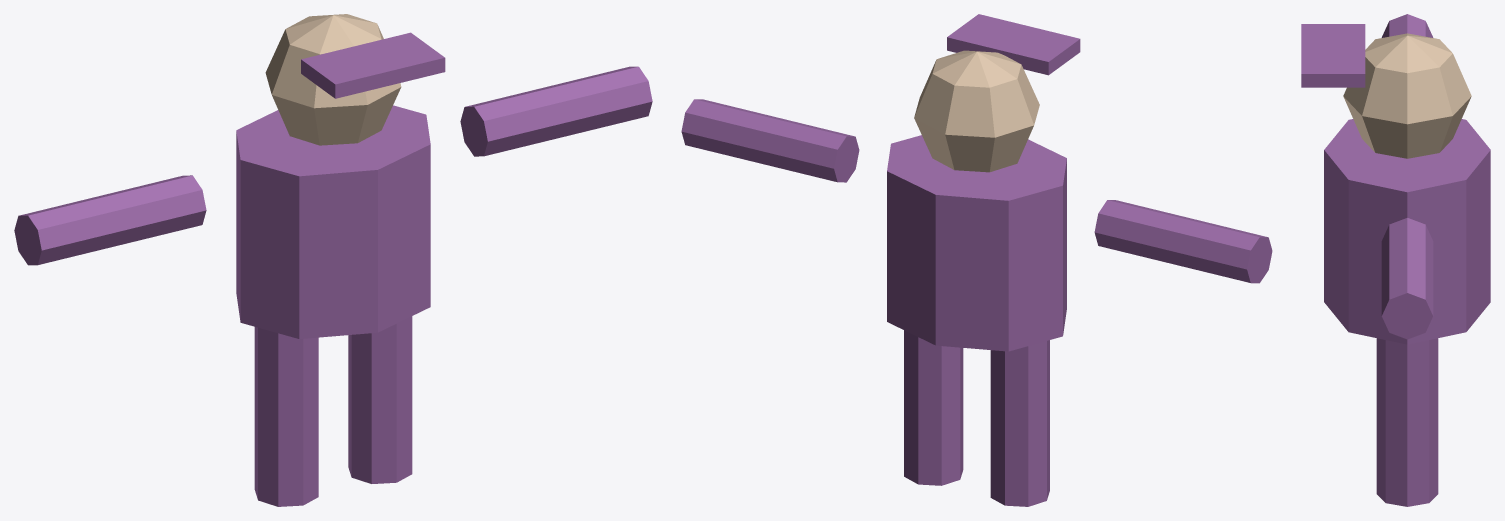
File: customer_b.glb
3 renders of one model, left to right at view 1: azimuth 30°, elevation 25°; view 2: azimuth 150°, elevation 25°; view 3: azimuth 270°, elevation 25°, orthographic. The views are drawn at different scales.
Parts seen in each view (by area): view 1: customer_b; view 2: customer_b; view 3: customer_b.
Boxes of the visible parts, box(x1,y1,x2,y2) form: customer_b: box(14, 14, 652, 506); customer_b: box(681, 14, 1272, 506); customer_b: box(1301, 14, 1490, 506).
Bounding box in the file's own units: 2.16 × 1.58 × 0.6215.
